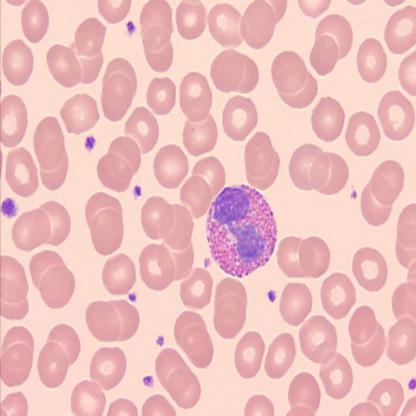Eosinophil: (206, 182, 278, 280)
